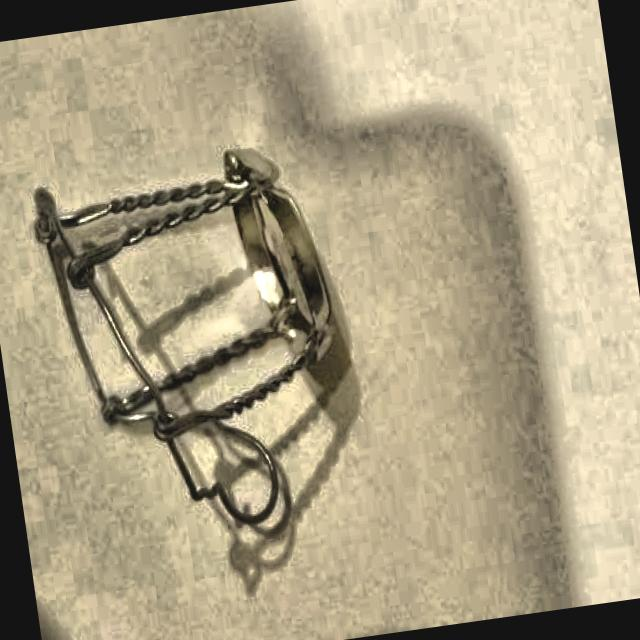metal: (26, 135, 377, 562)
